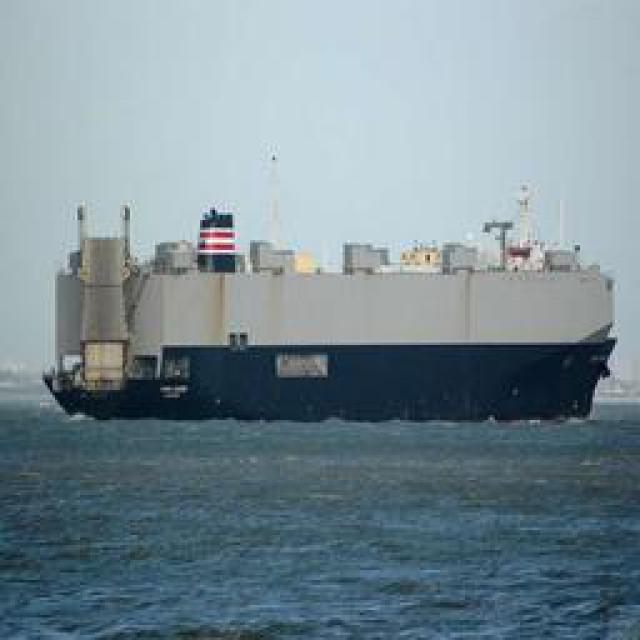Ship: (44, 166, 627, 424)
